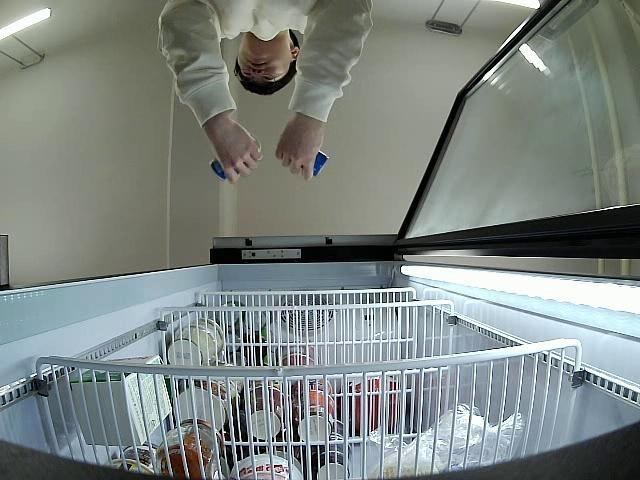15_letsbe: (210, 130, 262, 180), (301, 150, 329, 178)
